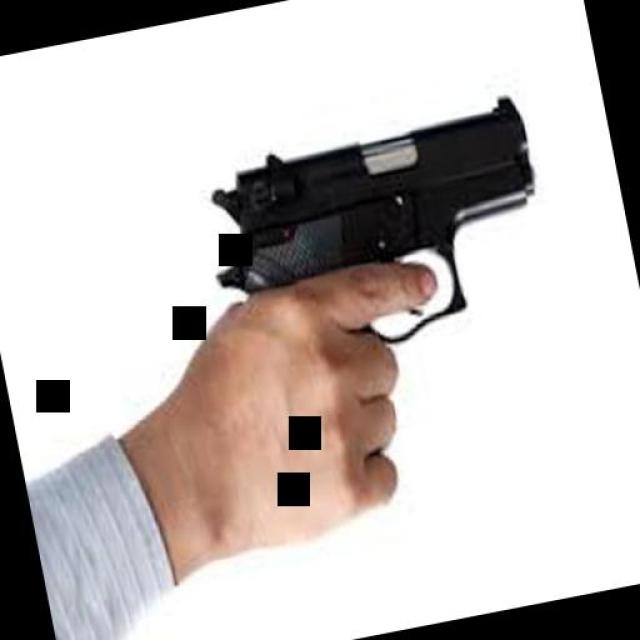gun: (196, 89, 564, 385)
